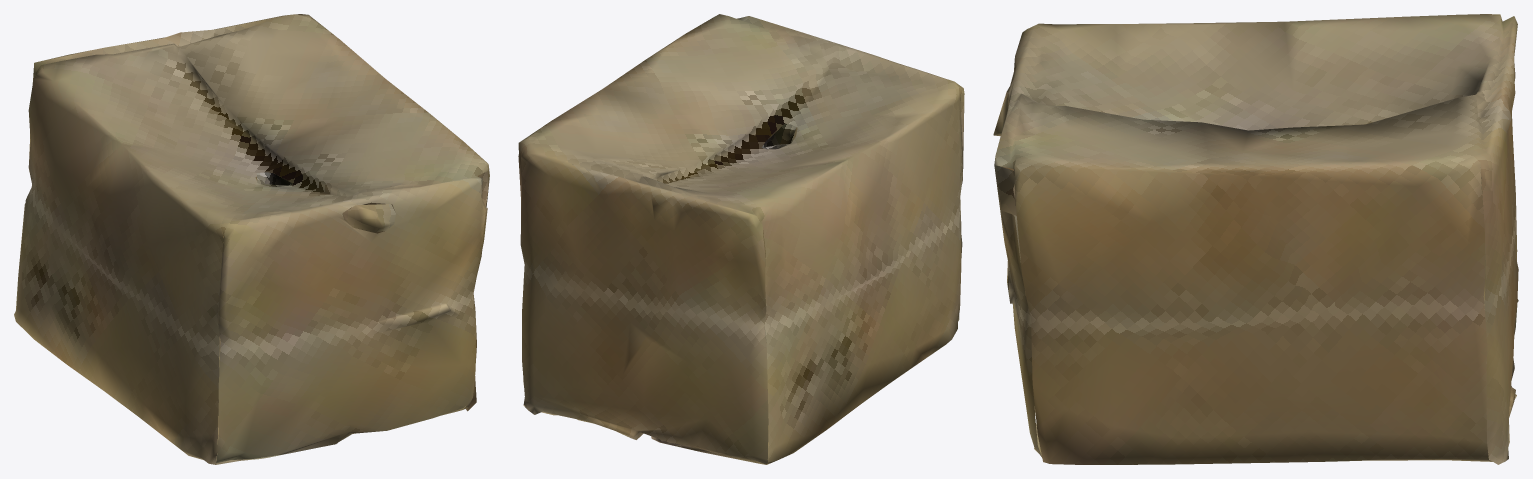
Rendered from cardboard_box_01.glb.
The picture shows the model from 3 angles, left to right: view 1: azimuth 30°, elevation 25°; view 2: azimuth 150°, elevation 25°; view 3: azimuth 270°, elevation 25°; orthographic projection. The views are drawn at different scales.
Visible parts, largest first — view 1: cardboard_box_01; view 2: cardboard_box_01; view 3: cardboard_box_01.
Part boxes in pixels (box(x1,y1,x2,y2)): cardboard_box_01: box(14, 14, 489, 464); cardboard_box_01: box(518, 14, 964, 464); cardboard_box_01: box(993, 14, 1518, 464).
Bounding box in the file's own units: 0.3872 × 0.3403 × 0.5151.
Materials: 1 (1 with a texture image).
